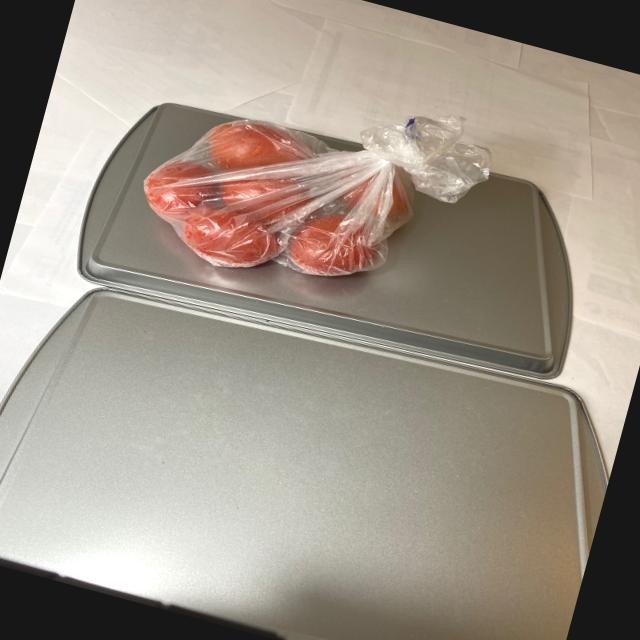tomato: (122, 76, 449, 316)
